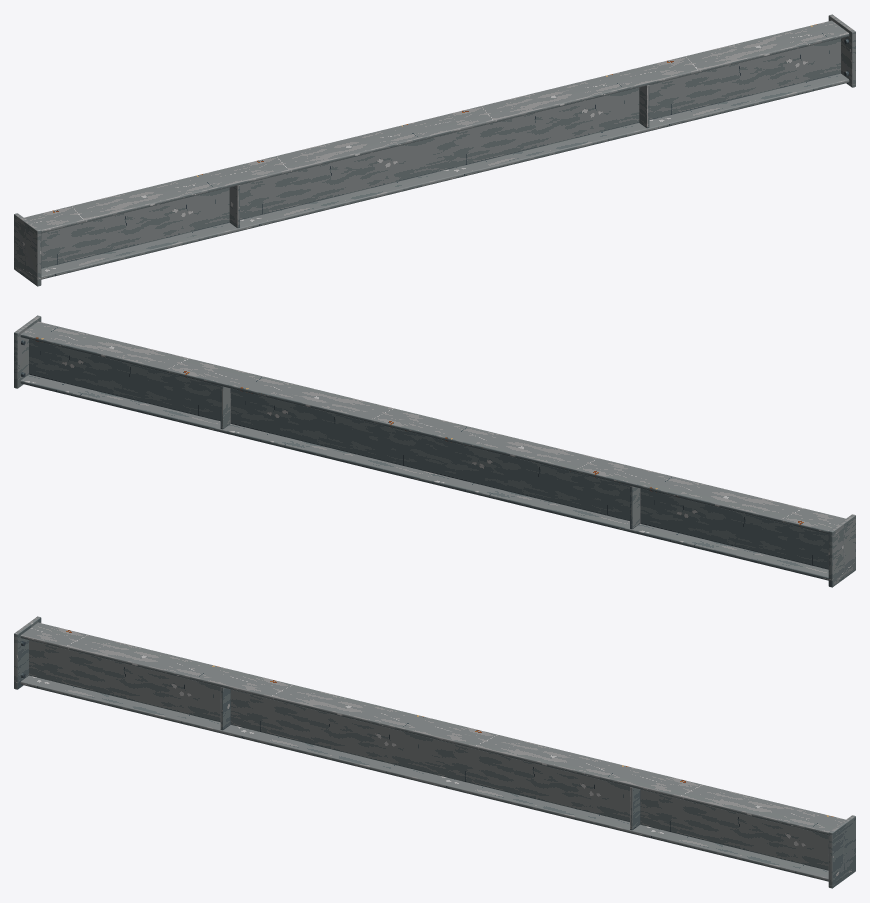
File: gk_hbeam.glb
3 views of the same model, one above another, from view 1: azimuth 30°, elevation 25°; view 2: azimuth 150°, elevation 25°; view 3: azimuth 330°, elevation 25° (orthographic).
Visible parts, largest first — view 1: mesh; view 2: mesh; view 3: mesh.
Boxes of the visible parts, box(x1,y1,x2,y2) form: mesh: box(14, 14, 855, 286); mesh: box(14, 315, 855, 587); mesh: box(14, 616, 855, 888).
Bounding box in the file's own units: 4 × 0.2598 × 0.2002.
Materials: 1 (1 with a texture image).
